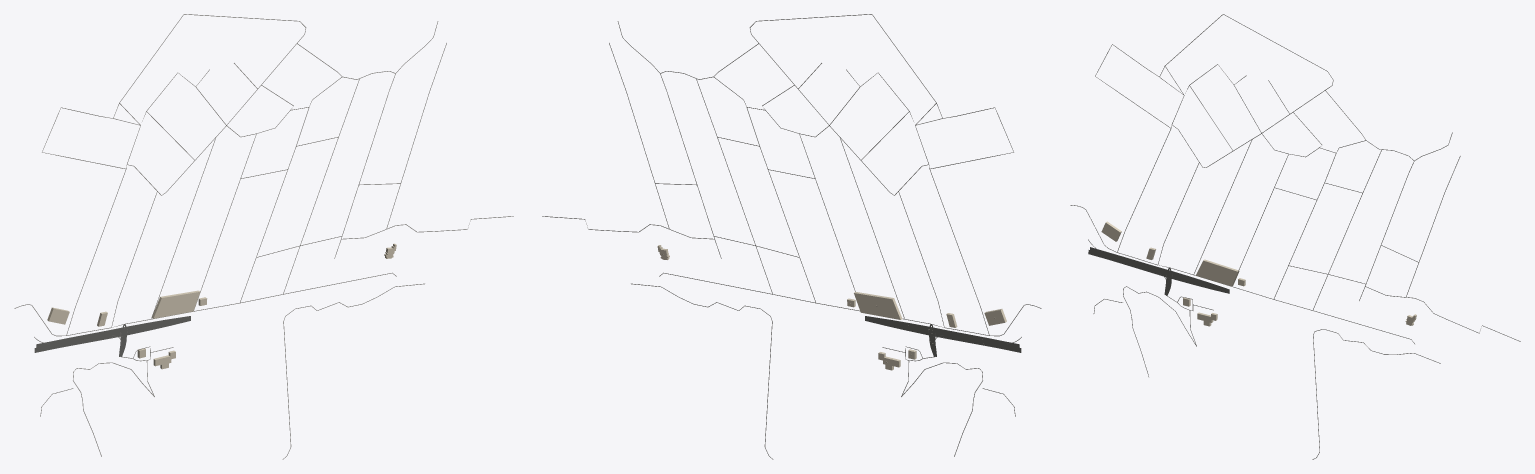
The model's file is historic-palestine-13_24_3545_3180.glb.
3 views of the same model, side by side, from view 1: azimuth 30°, elevation 25°; view 2: azimuth 150°, elevation 25°; view 3: azimuth 330°, elevation 25° (orthographic). The views are drawn at different scales.
Parts seen in each view (by area): view 1: Building_.006, Road .005; view 2: Building_.006, Road .005; view 3: Building_.006, Road .005.
Part boxes in pixels (bbox=[...]): Building_.006: bbox=[152, 290, 200, 318]; Road .005: bbox=[66, 14, 306, 335]; Building_.006: bbox=[854, 291, 902, 319]; Road .005: bbox=[749, 14, 989, 335]; Building_.006: bbox=[1196, 259, 1239, 286]; Road .005: bbox=[1117, 14, 1333, 252].
Bounding box in the file's own units: 1265 × 1137 × 8.7.
